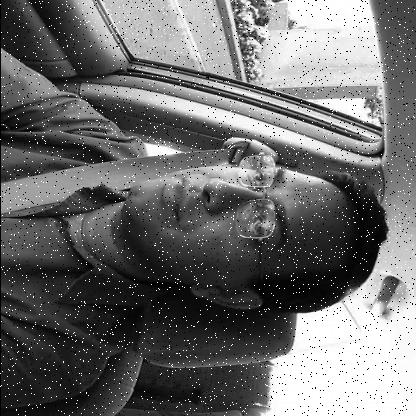seatbelt: (0, 134, 379, 316)
